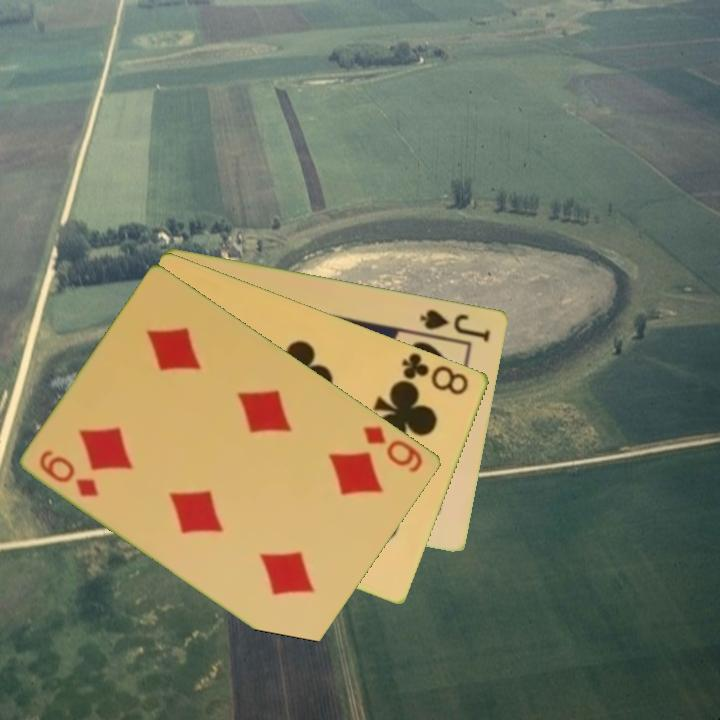6d: (359, 422, 427, 475), (36, 446, 102, 500)
8c: (398, 349, 473, 398)
Js: (417, 305, 494, 345)
